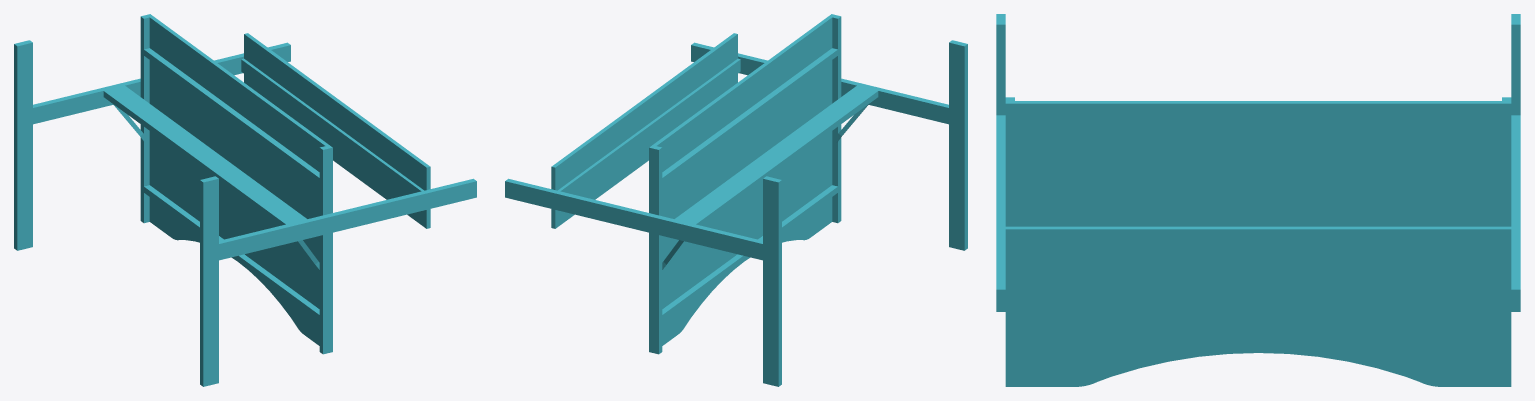
The picture shows the model from 3 angles, left to right: view 1: azimuth 30°, elevation 25°; view 2: azimuth 150°, elevation 25°; view 3: azimuth 270°, elevation 25°; orthographic projection. The views are drawn at different scales.
Parts seen in each view (by area): view 1: Renderer Node; view 2: Renderer Node; view 3: Renderer Node.
Part boxes in pixels (left/top/right/bottom): Renderer Node: left=14, top=14, right=476, bottom=386; Renderer Node: left=505, top=14, right=967, bottom=386; Renderer Node: left=996, top=14, right=1520, bottom=386.
Size of the model in its own units: 0.5825 by 0.4161 by 0.6982.
1 material, 1 textured.
